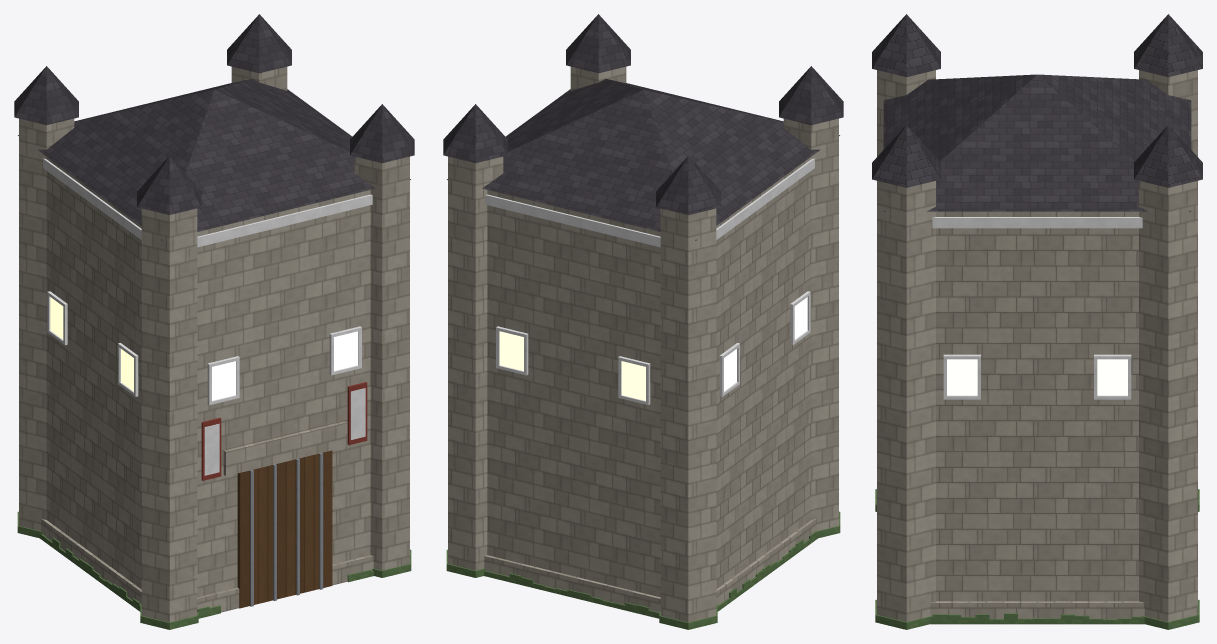
The model's file is keep.t3.glb.
The picture shows the model from 3 angles, left to right: view 1: azimuth 30°, elevation 25°; view 2: azimuth 150°, elevation 25°; view 3: azimuth 270°, elevation 25°; orthographic projection. The views are drawn at different scales.
Visible parts, largest first — view 1: castle.keep.t3; view 2: castle.keep.t3; view 3: castle.keep.t3.
Part boxes in pixels (box(x1,y1,x2,y2)): castle.keep.t3: box(14, 14, 414, 629); castle.keep.t3: box(443, 14, 843, 629); castle.keep.t3: box(872, 14, 1202, 629).
Size of the model in its own units: 6 by 9.5 by 5.81.
9 materials, 8 textured.
